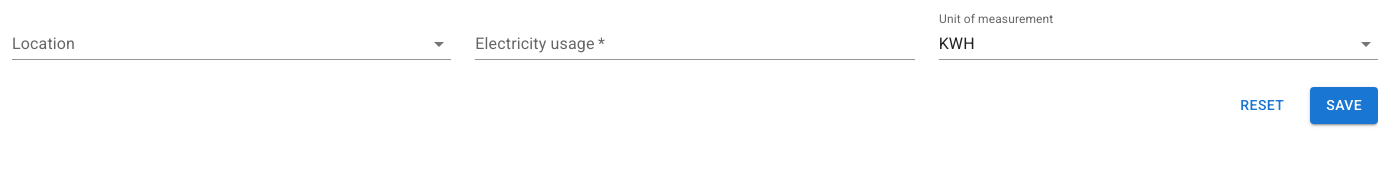
<Form /> › should validate the inputs
Step 1. Click the button "Save" → (1344, 105), box [1310, 87, 1378, 124]
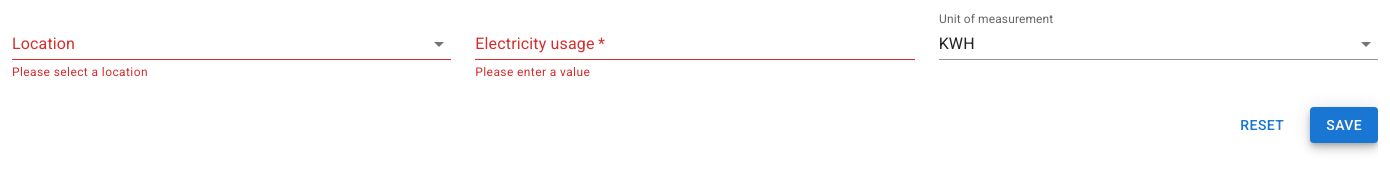
Now the text "Please select a location" is shown, box [12, 65, 148, 79]
Now the text "Please enter a value" is shown, box [475, 65, 590, 79]
